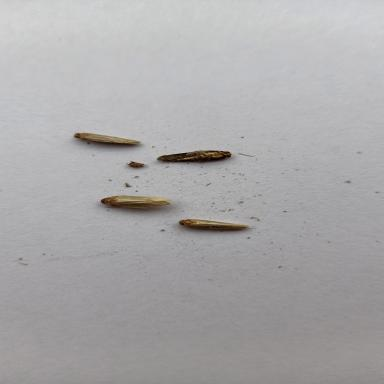pbw: (175, 215, 252, 235), (96, 192, 174, 211), (154, 147, 235, 164), (68, 130, 146, 147)
